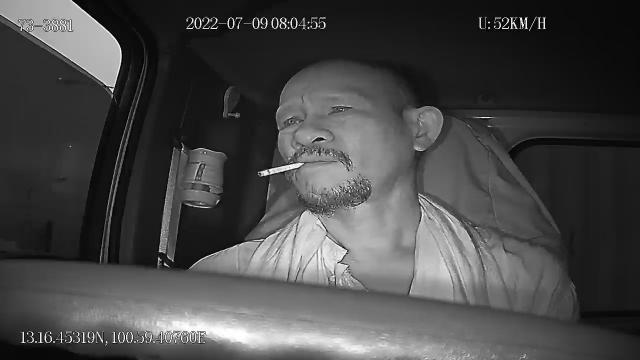SafeDriving: (322, 94, 364, 121), (274, 106, 310, 134)
Smoking: (257, 161, 305, 177)
